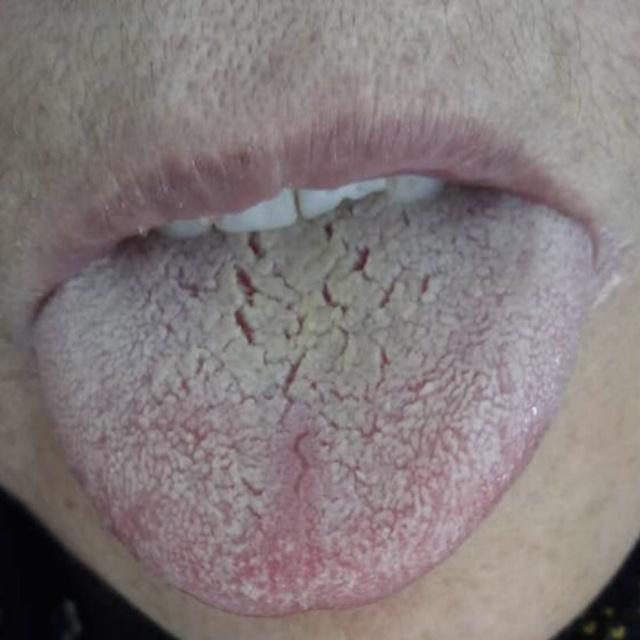baitaishe: (30, 189, 591, 617)
liewenshe: (234, 234, 398, 381)
